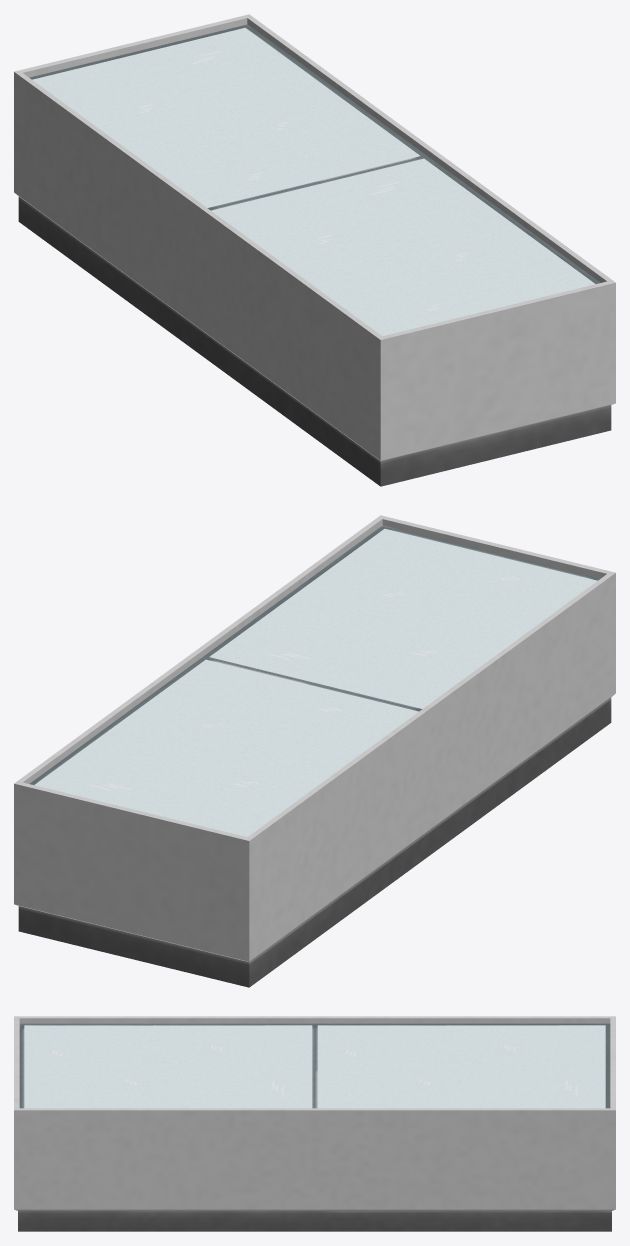
Rendered from freezer.fbx.
3 views of the same model, one above another, from view 1: azimuth 30°, elevation 25°; view 2: azimuth 150°, elevation 25°; view 3: azimuth 270°, elevation 25° (orthographic). The views are drawn at different scales.
Parts seen in each view (by area): view 1: Cube.003; view 2: Cube.003; view 3: Cube.003.
Part boxes in pixels (x1=…): Cube.003: x1=14, y1=14, x2=615, y2=486; Cube.003: x1=14, y1=515, x2=615, y2=987; Cube.003: x1=14, y1=1016, x2=615, y2=1231.
Bounding box in the file's own units: 363 × 219 × 979.
